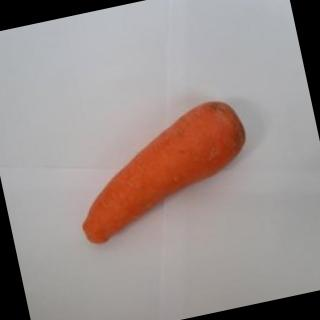Wortel: (60, 94, 262, 248)
